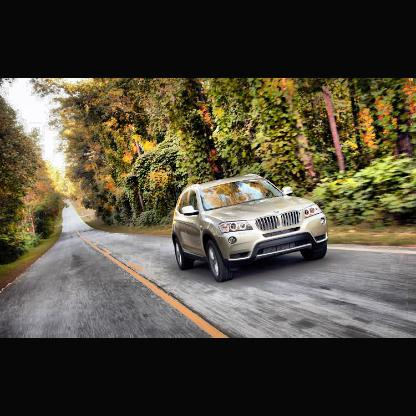BMW X3 SUV 2012: (173, 171, 334, 284)
